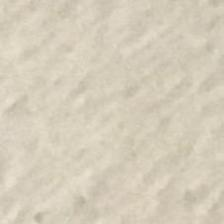Non_Crack: (30, 26, 188, 191)
